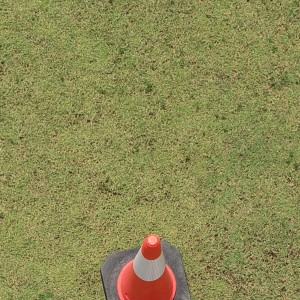traffic cone: (100, 234, 190, 300)
